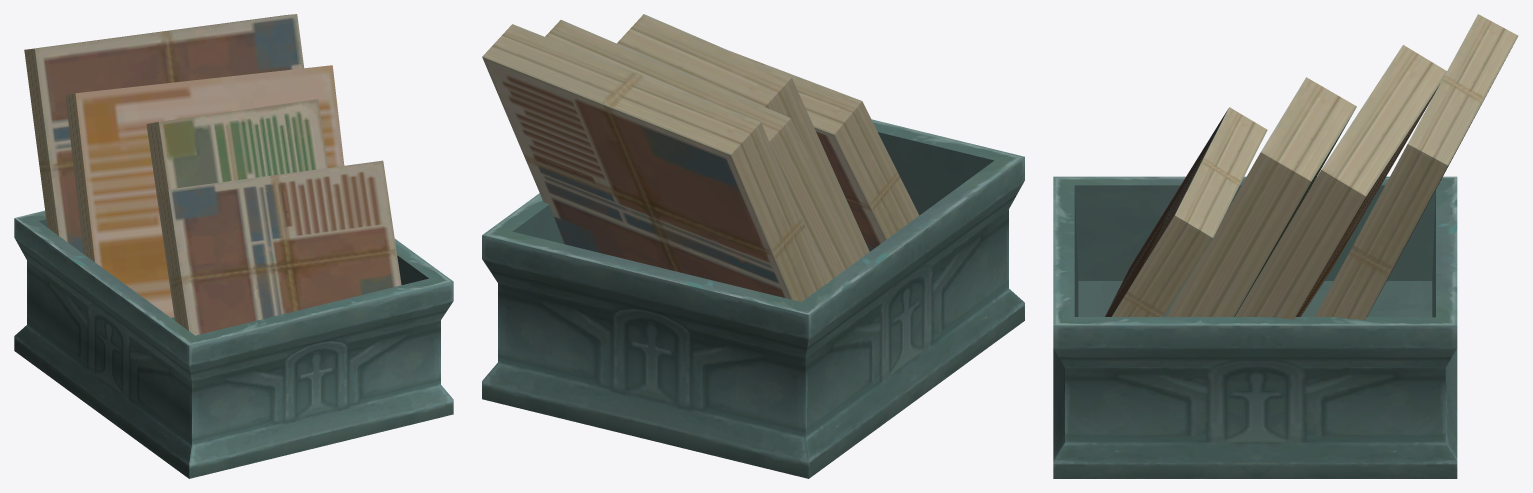
The model's file is Homeworld_Exterior_Fd_Decoration_Prop_Baokanting_01_Vo.fbx.
3 views of the same model, side by side, from view 1: azimuth 30°, elevation 25°; view 2: azimuth 150°, elevation 25°; view 3: azimuth 270°, elevation 25° (orthographic). The views are drawn at different scales.
Visible parts, largest first — view 1: Area_Fd_Prop_FDC_Baokanting_05_Vo; view 2: Area_Fd_Prop_FDC_Baokanting_05_Vo; view 3: Area_Fd_Prop_FDC_Baokanting_05_Vo.
Boxes of the visible parts, x1,y1,x2,y2 form: Area_Fd_Prop_FDC_Baokanting_05_Vo: (14, 14, 453, 478); Area_Fd_Prop_FDC_Baokanting_05_Vo: (482, 14, 1024, 478); Area_Fd_Prop_FDC_Baokanting_05_Vo: (1053, 14, 1518, 478).
Size of the model in its own units: 0.7112 by 0.73 by 0.9234.
